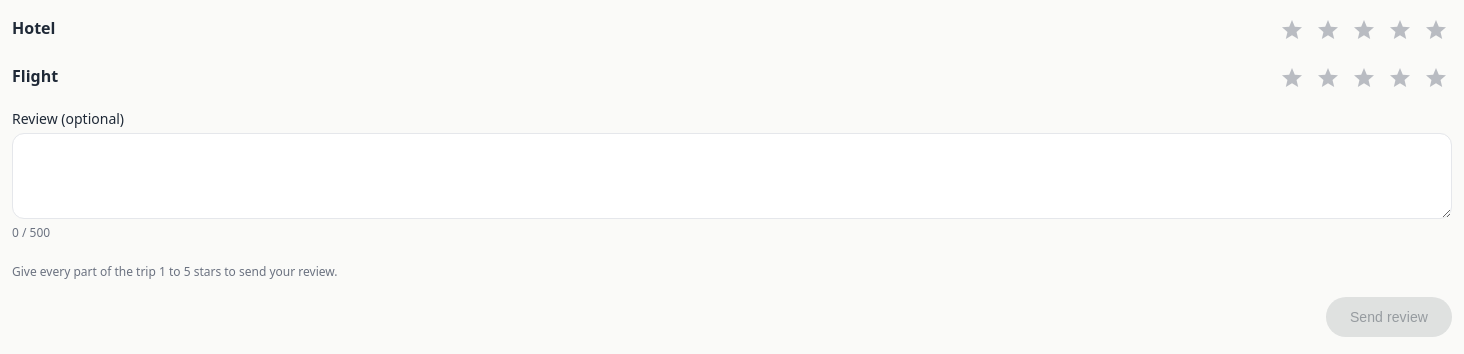
Test: FeedbackFormComponent › cannot be sent until every booked part has a rating, and says why
The image size is (1464, 354).
Expected: the submit button is disabled, [1326,297,1452,337]
What coordinates should you click on to do the following:
click the radio button named "5 stars" in the row of "Hotel"
I would click on:
 (1436, 28)
Its box is [1420,12,1452,44].
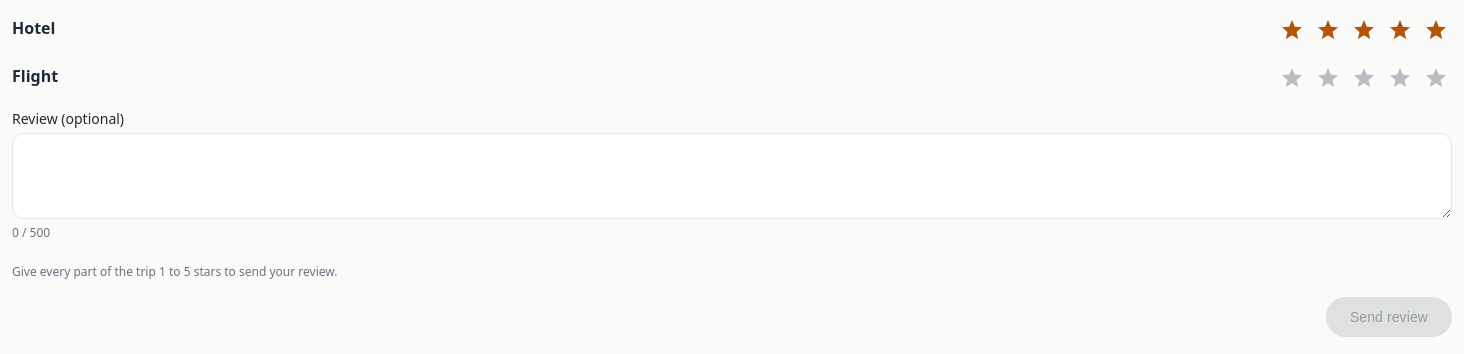
Expected: the submit button is disabled, [1326,297,1452,337]
What coordinates should you click on to do the following:
click the radio button named "4 stars" in the row of "Flight"
I would click on:
 (1400, 76)
Its box is [1384,60,1416,92].
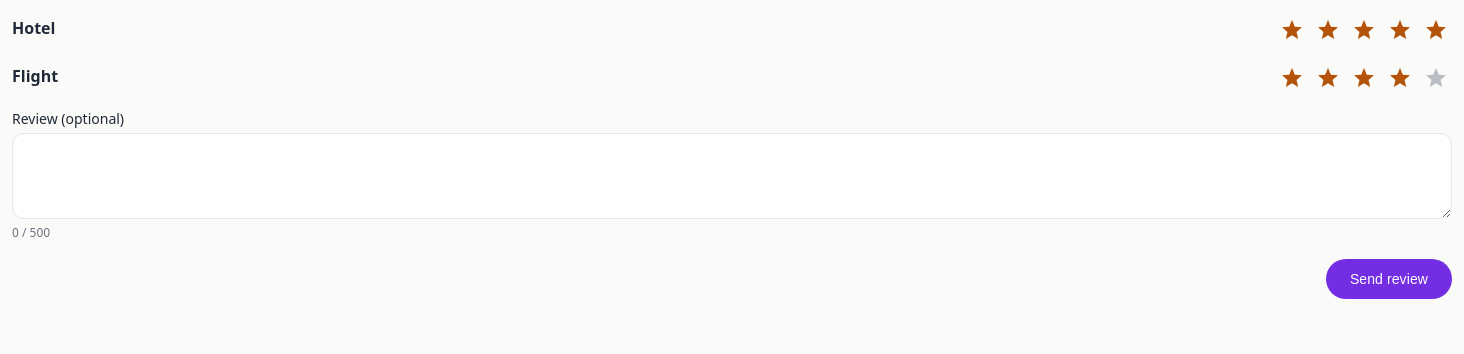
Expected: the submit button is enabled, [1326,259,1452,299]
Expected: the text "1 to 5 stars" is gone
